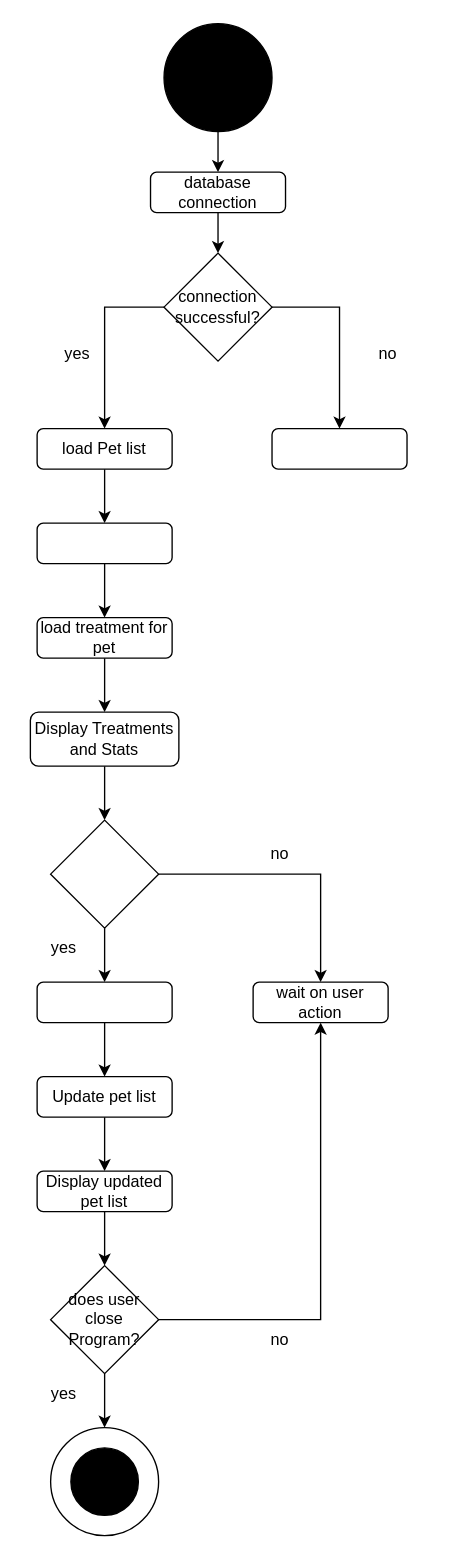
The diagram is 451 pixels wide and 1559 high, and some of its shapes have lost their labels. Here are the shapes that lost their labels. From the top down, the box of each, then its label:
(271, 427, 407, 469): show errormessage
(36, 522, 172, 564): user selects pet
(49, 819, 159, 928): user clicks reload data button?
(36, 981, 172, 1023): reload data from database
